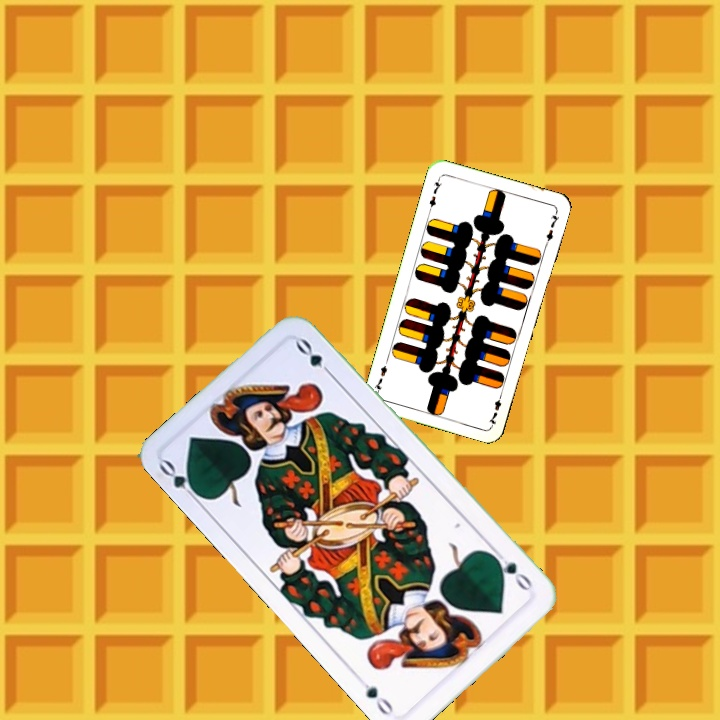E7: (484, 388, 505, 428), (425, 174, 444, 214)
GO: (155, 456, 206, 506), (489, 547, 535, 598)
